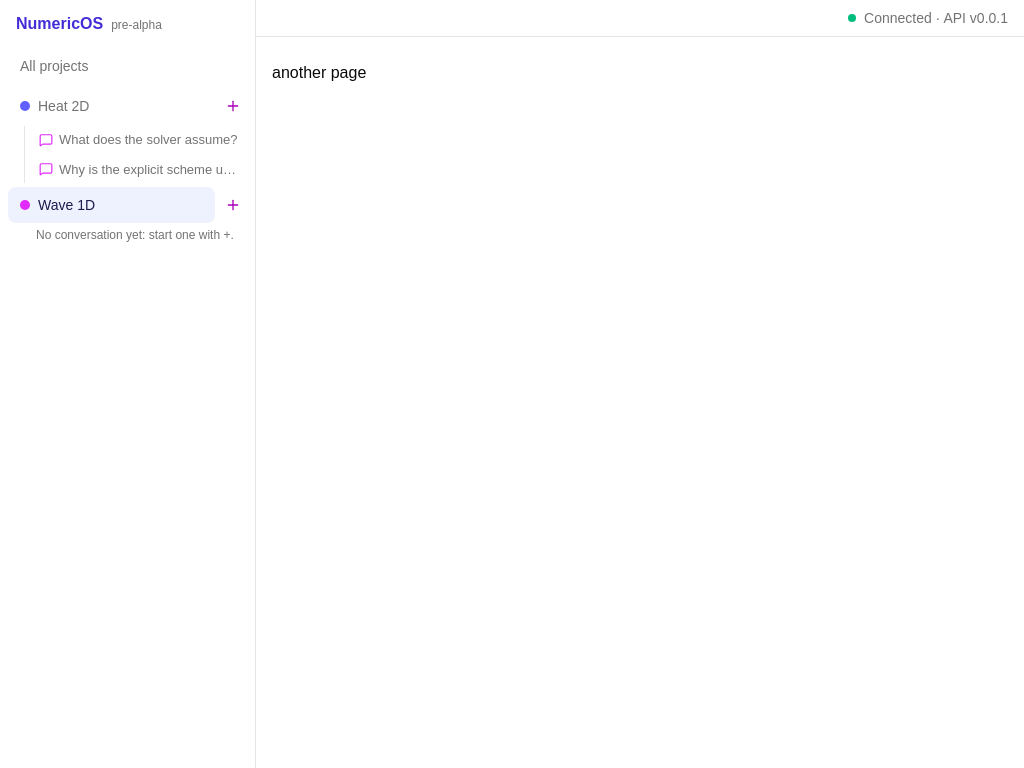
Test case: AppShell › starts a conversation from the project's row and opens it
Expected: the text "No conversation yet: start one with +." is shown, x1=36 y1=228 x2=234 y2=242
Step 1. Click the button named "New conversation in Wave 1D" → (233, 205), box x1=219 y1=191 x2=247 y2=219
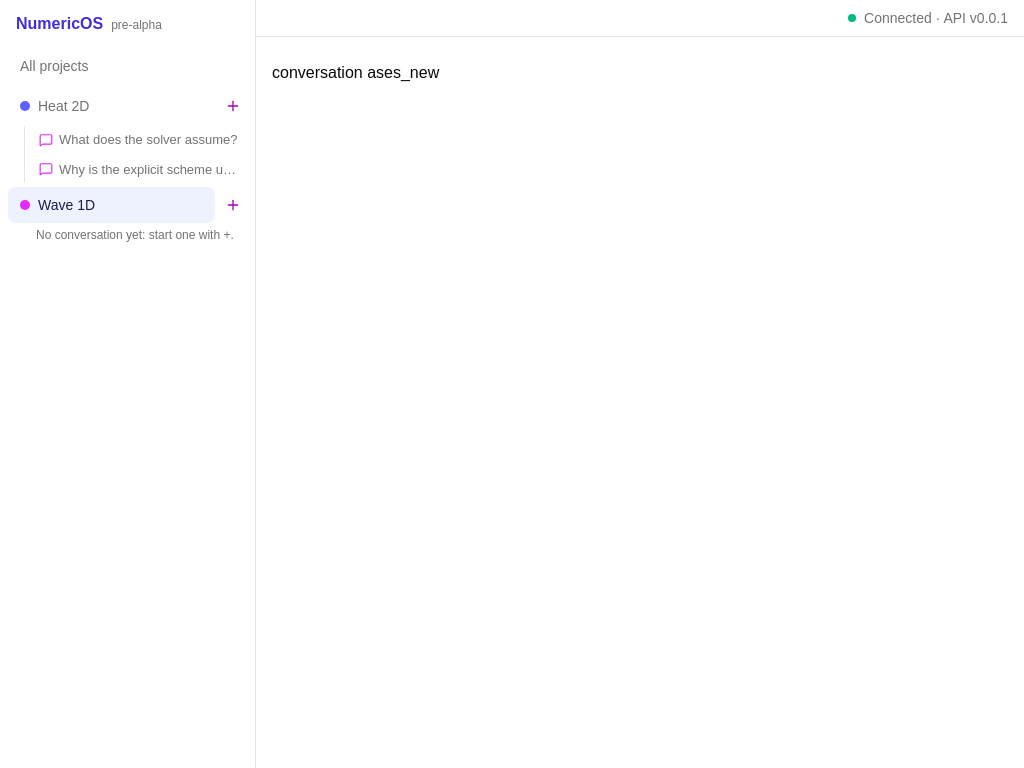
Now the text "conversation ases_new" is shown, box x1=272 y1=64 x2=439 y2=81
